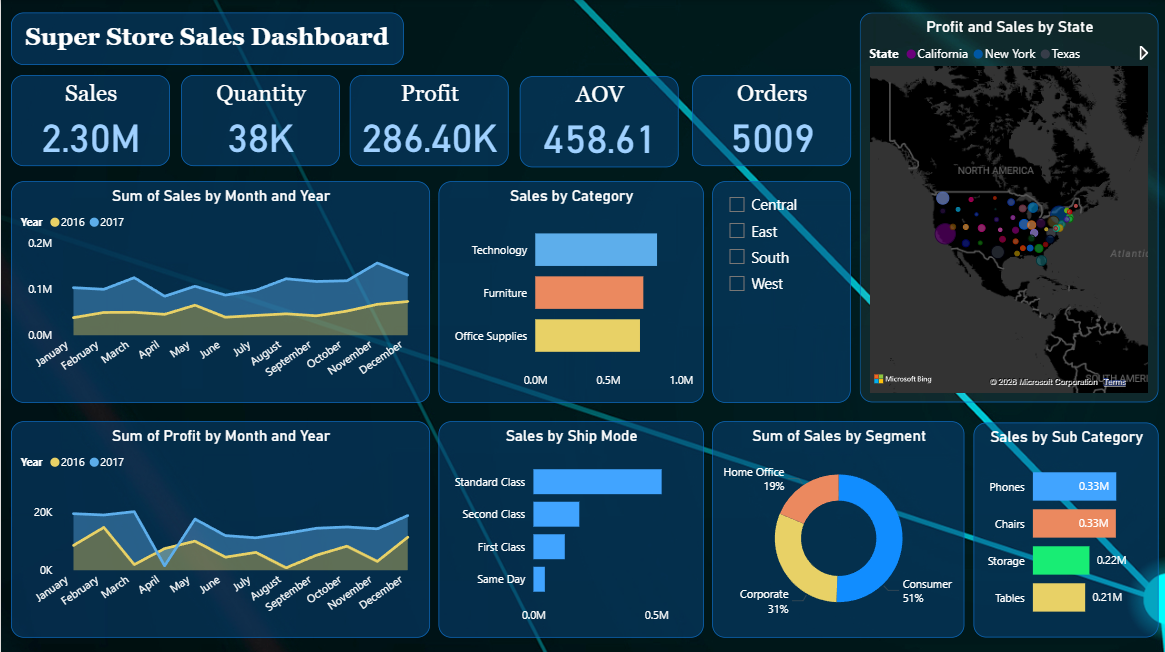

Layout of this report page (visuals, bound fields, positions):
{"tool":"powerbi","page":{"name":"Page 1","canvas":[1280,720],"ordinal":0},"visuals":[{"type":"clusteredBarChart","title":"Sales by Category","fields":{"Category":["Sample - Superstore.Category"],"Y":["Sum(Sample - Superstore.Sales)"]},"box":[480.3,199,290.9,242.9],"z":0},{"type":"clusteredBarChart","title":"Sales by Sub Category","fields":{"Category":["Sample - Superstore.Sub-Category"],"Y":["Sum(Sample - Superstore.Sales)"]},"box":[1067.6,463.8,203.1,236],"z":1000},{"type":"clusteredBarChart","title":"Sales by Ship Mode","fields":{"Category":["Sample - Superstore.Ship Mode"],"Y":["Sum(Sample - Superstore.Sales)"]},"box":[480.3,462.4,290.9,237.4],"z":2000},{"type":"stackedAreaChart","fields":{"Y":["Sum(Sample - Superstore.Sales)"],"Category":["Sample - Superstore.Order Date.Variation.Date Hierarchy.Month"],"Series":["Sample - Superstore.Order Date.Variation.Date Hierarchy.Year"]},"box":[11,199,459.7,242.9],"z":3000},{"type":"stackedAreaChart","fields":{"Category":["Sample - Superstore.Order Date.Variation.Date Hierarchy.Month"],"Series":["Sample - Superstore.Order Date.Variation.Date Hierarchy.Year"],"Y":["Sum(Sample - Superstore.Profit)"]},"box":[11,462.4,459.7,237.4],"z":4000},{"type":"map","title":"Profit and Sales by State","fields":{"Category":["Sample - Superstore.State"],"Series":["Sample - Superstore.State"],"Size":["Sum(Sample - Superstore.Sales)"]},"box":[942.7,13.7,328,428.1],"z":5000},{"type":"donutChart","fields":{"Category":["Sample - Superstore.Segment"],"Y":["Sum(Sample - Superstore.Sales)"]},"box":[780.8,462.4,277.2,237.4],"z":6000},{"type":"slicer","fields":{"Values":["Sample - Superstore.Region"]},"box":[780.8,199,152.3,242.9],"z":7000},{"type":"textbox","box":[11,13.7,430.9,57.6],"z":8000},{"type":"card","title":"Sales","fields":{"Values":["Sum(Sample - Superstore.Sales)"]},"box":[11,82.3,174.3,100.2],"z":9000},{"type":"card","title":"Quantity","fields":{"Values":["Sum(Sample - Superstore.Quantity)"]},"box":[197.6,82.3,174.3,100.2],"z":10000},{"type":"card","title":"Profit","fields":{"Values":["Sum(Sample - Superstore.Profit)"]},"box":[382.8,82.3,174.3,100.2],"z":11000},{"type":"card","title":"AOV","fields":{"Values":["Sample - Superstore.AOV"]},"box":[569.5,83.7,174.3,100.2],"z":12000},{"type":"card","title":"Orders","fields":{"Values":["Sample - Superstore.Total Orders"]},"box":[758.8,82.3,174.3,100.2],"z":13000}]}

Visuals, with their boxes in screenshot pixels (x1, y1, x2, y2), scaled from the page's 1280x720 canvas onto the 1165x652 screenshot:
"Sales by Category" clusteredBarChart: (left=437, top=180, right=702, bottom=400)
"Sales by Sub Category" clusteredBarChart: (left=972, top=420, right=1157, bottom=634)
"Sales by Ship Mode" clusteredBarChart: (left=437, top=419, right=702, bottom=634)
stackedAreaChart - Sum(Sample - Superstore.Sales) x Sample - Superstore.Order Date.Variation.Date Hierarchy.Month: (left=10, top=180, right=428, bottom=400)
stackedAreaChart - Sample - Superstore.Order Date.Variation.Date Hierarchy.Month x Sample - Superstore.Order Date.Variation.Date Hierarchy.Year: (left=10, top=419, right=428, bottom=634)
"Profit and Sales by State" map: (left=858, top=12, right=1157, bottom=400)
donutChart - Sample - Superstore.Segment x Sum(Sample - Superstore.Sales): (left=711, top=419, right=963, bottom=634)
slicer - Sample - Superstore.Region: (left=711, top=180, right=849, bottom=400)
textbox: (left=10, top=12, right=402, bottom=65)
"Sales" card: (left=10, top=75, right=169, bottom=165)
"Quantity" card: (left=180, top=75, right=338, bottom=165)
"Profit" card: (left=348, top=75, right=507, bottom=165)
"AOV" card: (left=518, top=76, right=677, bottom=167)
"Orders" card: (left=691, top=75, right=849, bottom=165)
